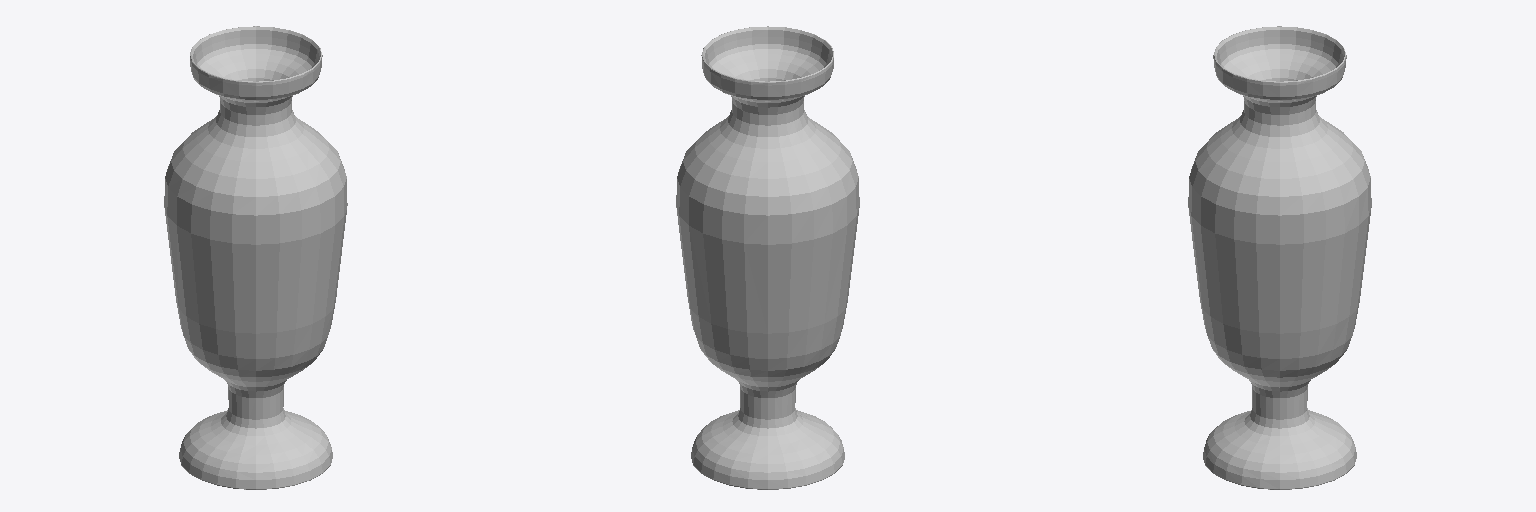
File: BrassVase.obj
The picture shows the model from 3 angles: view 1: azimuth 30°, elevation 25°; view 2: azimuth 150°, elevation 25°; view 3: azimuth 270°, elevation 25°; orthographic projection.
Visible parts, largest first — view 1: brass_vase_03; view 2: brass_vase_03; view 3: brass_vase_03.
Part boxes in pixels (x1,y1,x2,y2): brass_vase_03: (164,26,347,489); brass_vase_03: (676,26,859,489); brass_vase_03: (1188,26,1371,489).
Size of the model in its own units: 0.0825 by 0.2004 by 0.0825.